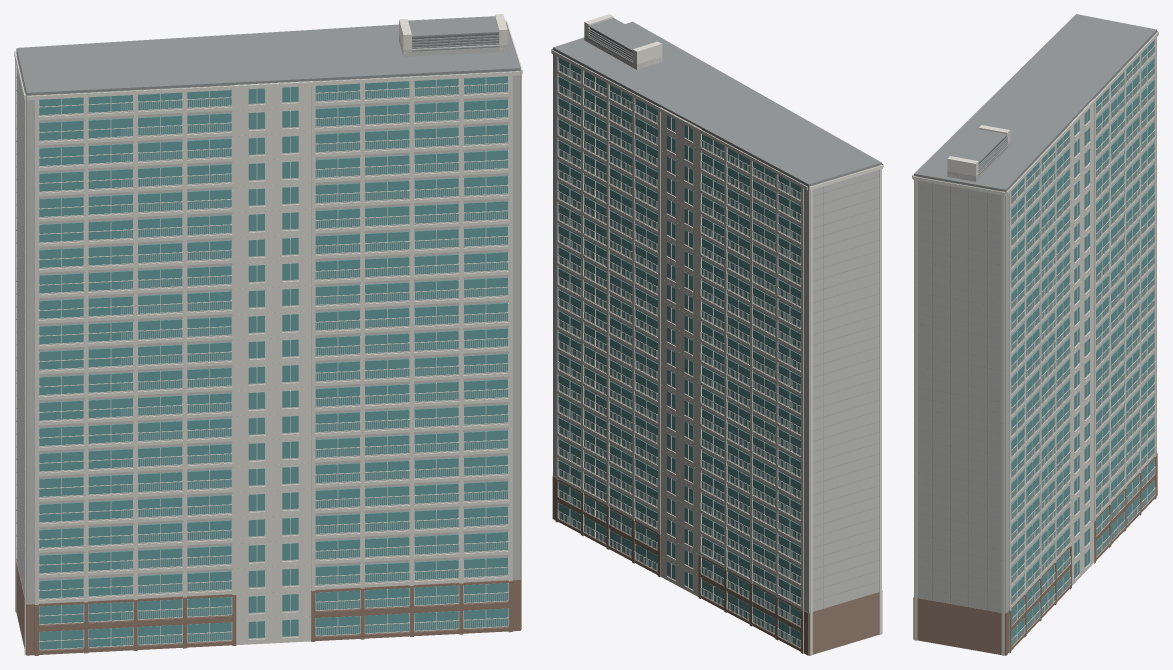
File: bespoke-jamsil-els-155.glb
3 renders of one model, left to right at view 1: azimuth 30°, elevation 25°; view 2: azimuth 150°, elevation 25°; view 3: azimuth 270°, elevation 25°, orthographic. The views are drawn at different scales.
Visible parts, largest first — view 1: Els155_editable_Els155_turquoise_balcony_glazing, Els155_editable_Els155_light_grey_solid_wall, Els155_white_exact_chunk_2, Els155_white_exact_chunk_3, Els155_white_exact_chunk_4, Els155_editable_Els155_modest_grey_flat_roof_caps, Els155_white_exact_chunk_5, Els155_editable_Els155_muted_ground_wall; view 2: Els155_editable_Els155_turquoise_balcony_glazing, Els155_editable_Els155_light_grey_solid_wall, Els155_white_exact_chunk_0, Els155_white_exact_chunk_1, Els155_white_exact_chunk_2, Els155_editable_Els155_modest_grey_flat_roof_caps, Els155_editable_Els155_muted_ground_wall, Els155_white_exact_chunk_5; view 3: Els155_editable_Els155_light_grey_solid_wall, Els155_editable_Els155_turquoise_balcony_glazing, Els155_editable_Els155_modest_grey_flat_roof_caps, Els155_white_exact_chunk_0, Els155_white_exact_chunk_1, Els155_white_exact_chunk_2, Els155_editable_Els155_muted_ground_wall, Els155_white_exact_chunk_5.
Part boxes in pixels (bbox=[...]): Els155_editable_Els155_turquoise_balcony_glazing: bbox=[39, 76, 508, 649]; Els155_editable_Els155_light_grey_solid_wall: bbox=[16, 36, 520, 619]; Els155_white_exact_chunk_2: bbox=[14, 49, 312, 654]; Els155_white_exact_chunk_3: bbox=[34, 85, 360, 650]; Els155_white_exact_chunk_4: bbox=[315, 79, 508, 634]; Els155_editable_Els155_modest_grey_flat_roof_caps: bbox=[16, 16, 520, 595]; Els155_white_exact_chunk_5: bbox=[27, 14, 522, 641]; Els155_editable_Els155_muted_ground_wall: bbox=[16, 559, 520, 655]; Els155_editable_Els155_turquoise_balcony_glazing: bbox=[558, 57, 800, 646]; Els155_editable_Els155_light_grey_solid_wall: bbox=[553, 35, 881, 612]; Els155_white_exact_chunk_0: bbox=[557, 57, 701, 596]; Els155_white_exact_chunk_1: bbox=[555, 52, 774, 634]; Els155_white_exact_chunk_2: bbox=[551, 50, 882, 655]; Els155_editable_Els155_modest_grey_flat_roof_caps: bbox=[553, 18, 881, 611]; Els155_editable_Els155_muted_ground_wall: bbox=[552, 476, 882, 655]; Els155_white_exact_chunk_5: bbox=[551, 14, 883, 167]; Els155_editable_Els155_light_grey_solid_wall: bbox=[914, 32, 1156, 613]; Els155_editable_Els155_turquoise_balcony_glazing: bbox=[1011, 41, 1153, 645]; Els155_editable_Els155_modest_grey_flat_roof_caps: bbox=[914, 14, 1156, 612]; Els155_white_exact_chunk_0: bbox=[1011, 99, 1093, 646]; Els155_white_exact_chunk_1: bbox=[1009, 72, 1140, 652]; Els155_white_exact_chunk_2: bbox=[1007, 30, 1158, 563]; Els155_editable_Els155_muted_ground_wall: bbox=[913, 453, 1157, 655]; Els155_white_exact_chunk_5: bbox=[912, 16, 1073, 655].
Bounding box in the file's own units: 47.15 × 59.95 × 27.71.
